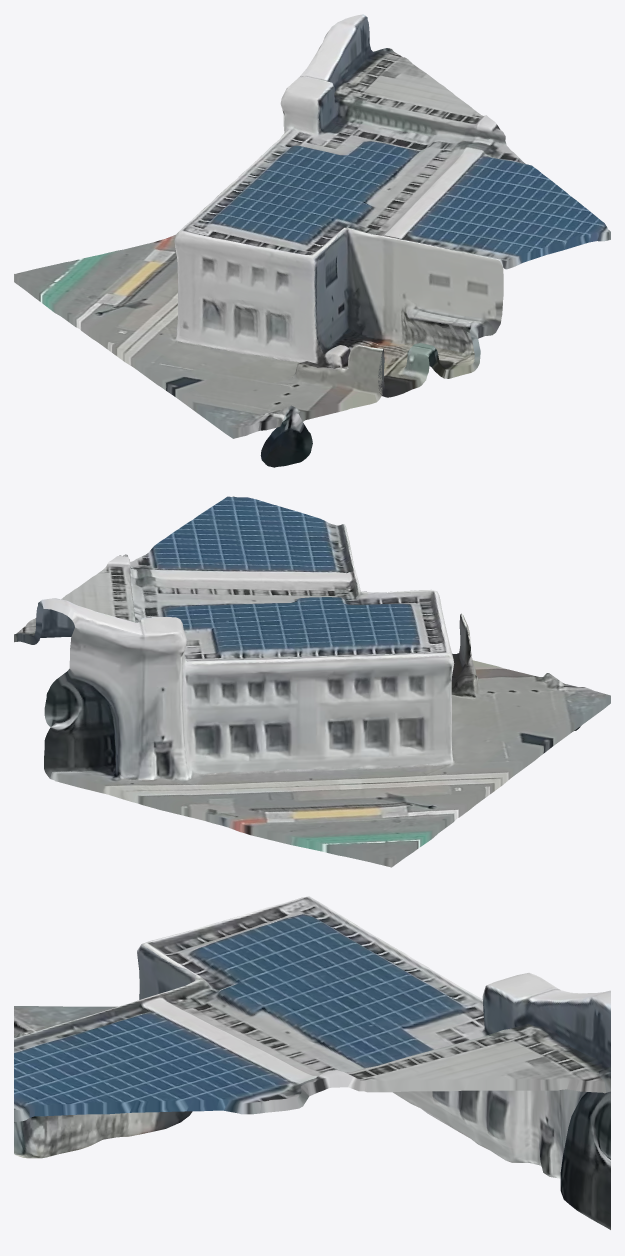
File: z20-167776-405201-h0-yup-uvflip-v3-world.glb
The picture shows the model from 3 angles, top to bottom: view 1: azimuth 30°, elevation 25°; view 2: azimuth 150°, elevation 25°; view 3: azimuth 270°, elevation 25°; orthographic projection. The views are drawn at different scales.
Bounding box in the file's own units: 30.16 × 16.72 × 30.32.
Materials: 1 (1 with a texture image).
